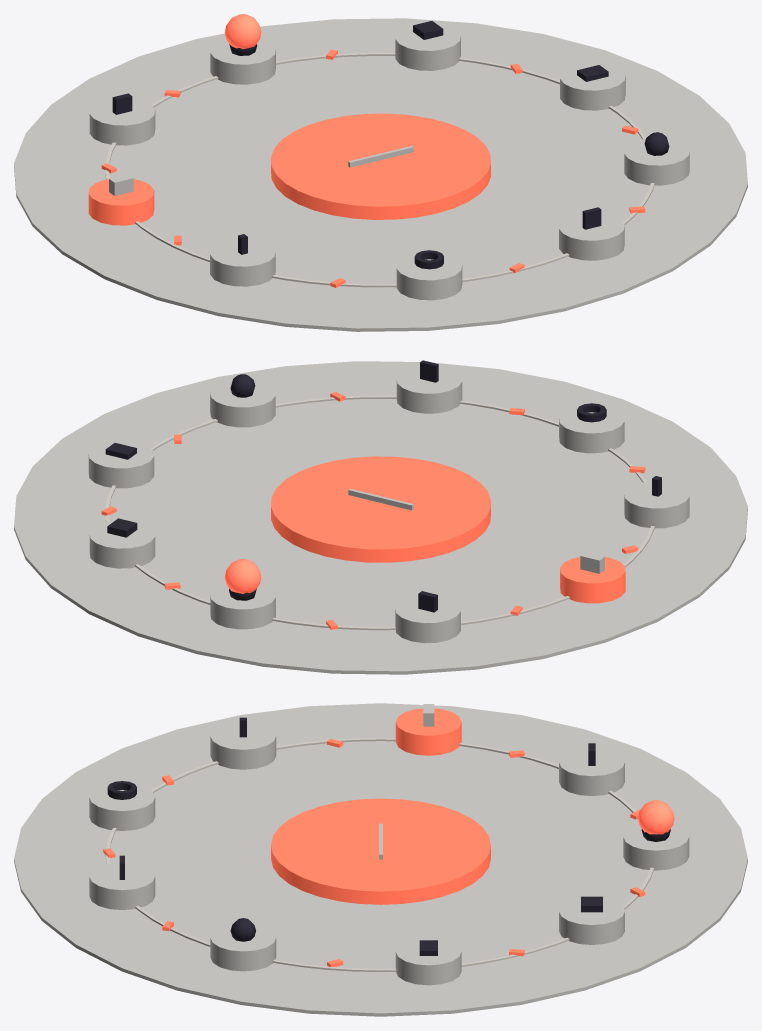
File: sdlc-artifact.glb
3 renders of one model, top to bottom at view 1: azimuth 30°, elevation 25°; view 2: azimuth 150°, elevation 25°; view 3: azimuth 270°, elevation 25°, orthographic.
Parts seen in each view (by area): view 1: Ground, MissionBase, PathRing, StageOperate, StageValidate, StageListen, StageBuild, StageMeasure, StageIntegrate, StageDesign, StageRelease, StagePlan (+1 smaller); view 2: Ground, MissionBase, PathRing, StageOperate, StageValidate, StageListen, StageBuild, StageDesign, StageIntegrate, StageMeasure, StageRelease, StagePlan (+1 smaller); view 3: Ground, MissionBase, PathRing, StageValidate, StageOperate, StageListen, StageMeasure, StageBuild, StageDesign, StageIntegrate, StageRelease, StagePlan (+1 smaller).
Boxes of the visible parts, x1,y1,x2,y2 form: Ground: (14, 18, 747, 331); MissionBase: (271, 113, 490, 219); PathRing: (105, 52, 654, 287); StageOperate: (210, 239, 275, 286); StageValidate: (559, 213, 624, 260); StageListen: (89, 98, 155, 145); StageBuild: (560, 63, 625, 110); StageMeasure: (88, 179, 154, 225); StageIntegrate: (624, 138, 689, 185); StageDesign: (395, 23, 460, 70); StageRelease: (396, 254, 462, 300); StagePlan: (210, 39, 275, 84); Ground: (14, 361, 747, 674); MissionBase: (271, 456, 490, 562); PathRing: (105, 395, 654, 630); StageOperate: (624, 481, 689, 528); StageValidate: (396, 366, 462, 413); StageListen: (395, 596, 460, 643); StageBuild: (88, 440, 154, 488); StageDesign: (89, 521, 155, 568); StageIntegrate: (210, 380, 275, 427); StageMeasure: (560, 557, 625, 603); StageRelease: (559, 407, 624, 453); StagePlan: (210, 583, 275, 629); Ground: (14, 703, 747, 1016); MissionBase: (271, 798, 490, 904); PathRing: (105, 738, 653, 971); StageValidate: (89, 862, 155, 909); StageOperate: (210, 722, 276, 769); StageListen: (559, 748, 624, 795); StageMeasure: (395, 708, 461, 755); StageBuild: (395, 937, 461, 985); StageDesign: (559, 898, 624, 944); StageIntegrate: (210, 924, 276, 971); StageRelease: (89, 784, 155, 830); StagePlan: (623, 825, 689, 870).
Size of the model in its own units: 0.4 by 0.036 by 0.4.
